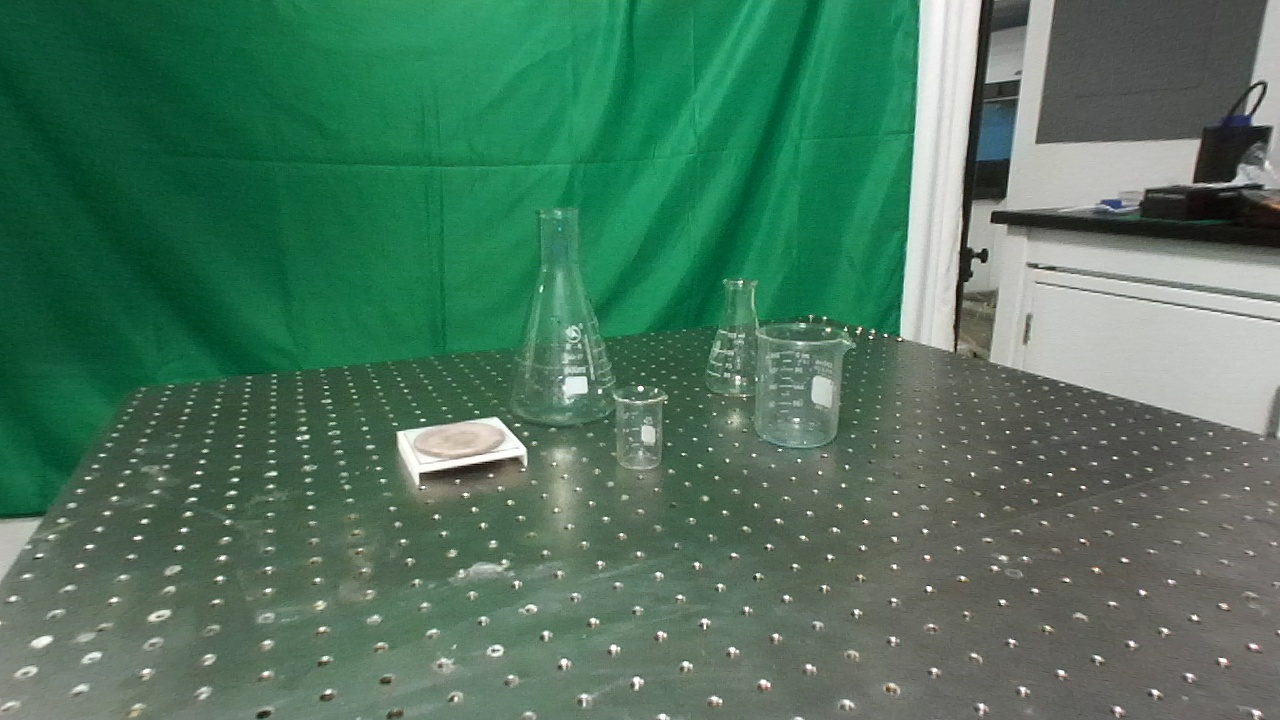glass: (506, 201, 625, 433), (751, 319, 855, 454), (699, 274, 769, 404), (612, 384, 671, 474)
plate: (391, 416, 528, 484)
